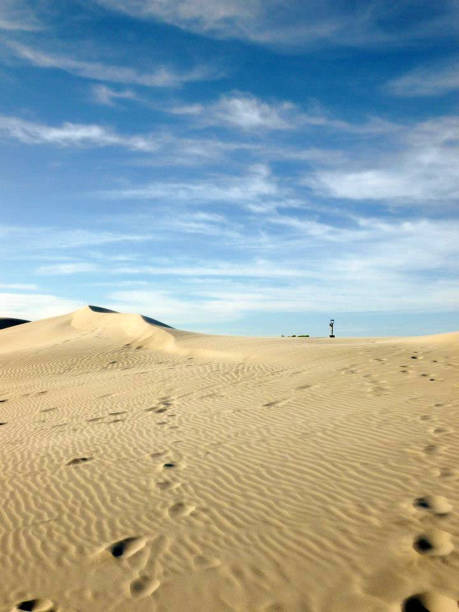human_foot_print: (94, 534, 164, 608), (365, 560, 458, 611), (96, 536, 158, 597), (128, 535, 167, 598), (388, 590, 458, 611), (418, 413, 452, 455), (262, 382, 317, 407), (400, 352, 442, 382), (150, 450, 180, 490), (413, 527, 453, 556), (401, 591, 458, 611), (413, 527, 453, 555), (413, 528, 453, 555), (105, 536, 146, 558), (413, 495, 451, 515), (155, 459, 180, 489), (129, 574, 159, 598), (150, 449, 182, 470), (14, 598, 56, 611), (86, 411, 126, 424), (364, 374, 387, 396), (145, 396, 173, 413), (168, 501, 195, 518), (193, 554, 220, 568), (430, 466, 458, 479), (66, 456, 93, 466), (155, 480, 180, 490), (438, 467, 457, 479), (263, 398, 288, 407), (430, 425, 452, 435), (339, 363, 358, 374), (158, 396, 173, 408), (199, 392, 223, 399), (423, 444, 439, 454), (102, 360, 117, 369), (150, 450, 166, 458), (421, 373, 436, 381), (295, 383, 312, 390), (163, 461, 176, 469), (87, 416, 103, 422), (108, 411, 127, 416), (98, 393, 116, 398), (106, 418, 124, 423), (399, 363, 408, 373), (52, 422, 67, 428), (289, 370, 303, 376), (40, 407, 56, 412), (419, 414, 432, 420), (154, 407, 166, 413), (373, 357, 386, 362), (35, 390, 47, 395), (433, 402, 444, 407), (420, 372, 429, 378), (145, 406, 155, 411), (166, 412, 175, 417), (134, 345, 143, 350), (156, 421, 167, 425), (410, 354, 418, 359), (168, 425, 178, 429), (428, 376, 436, 381), (0, 398, 7, 402), (0, 421, 6, 425), (432, 359, 437, 362)
